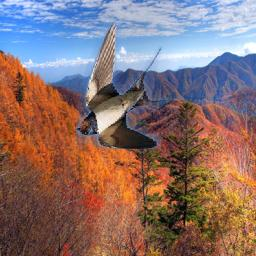Swallow: (76, 23, 186, 149)
